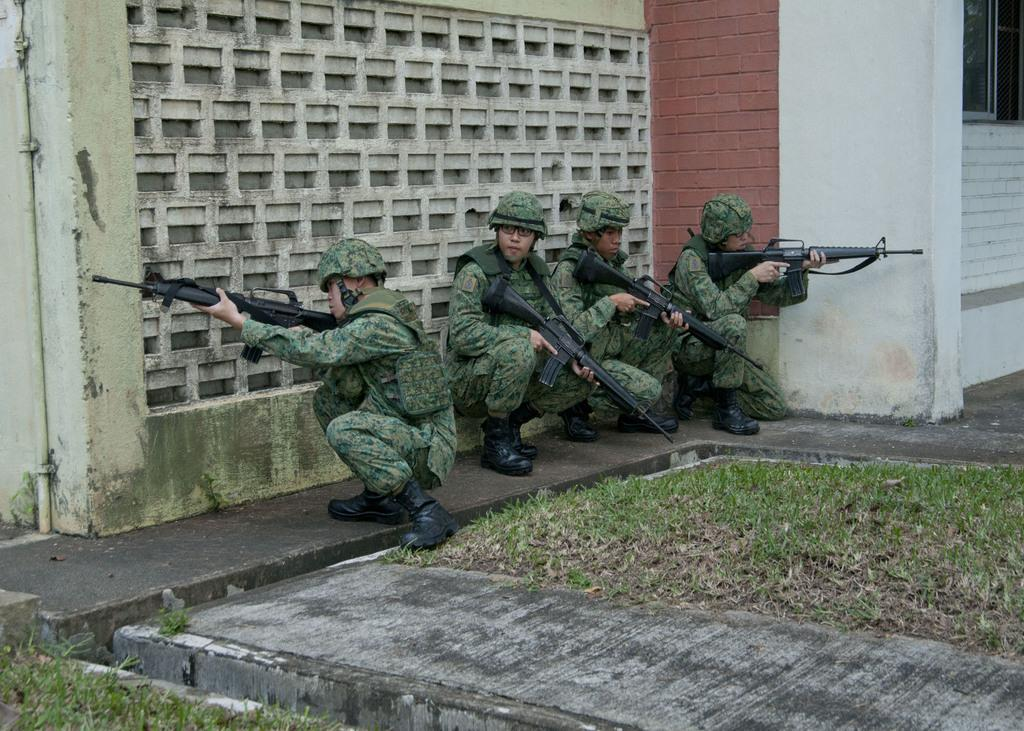Rifle: (476, 279, 675, 452), (575, 245, 771, 377), (90, 274, 358, 368), (680, 228, 920, 312)
